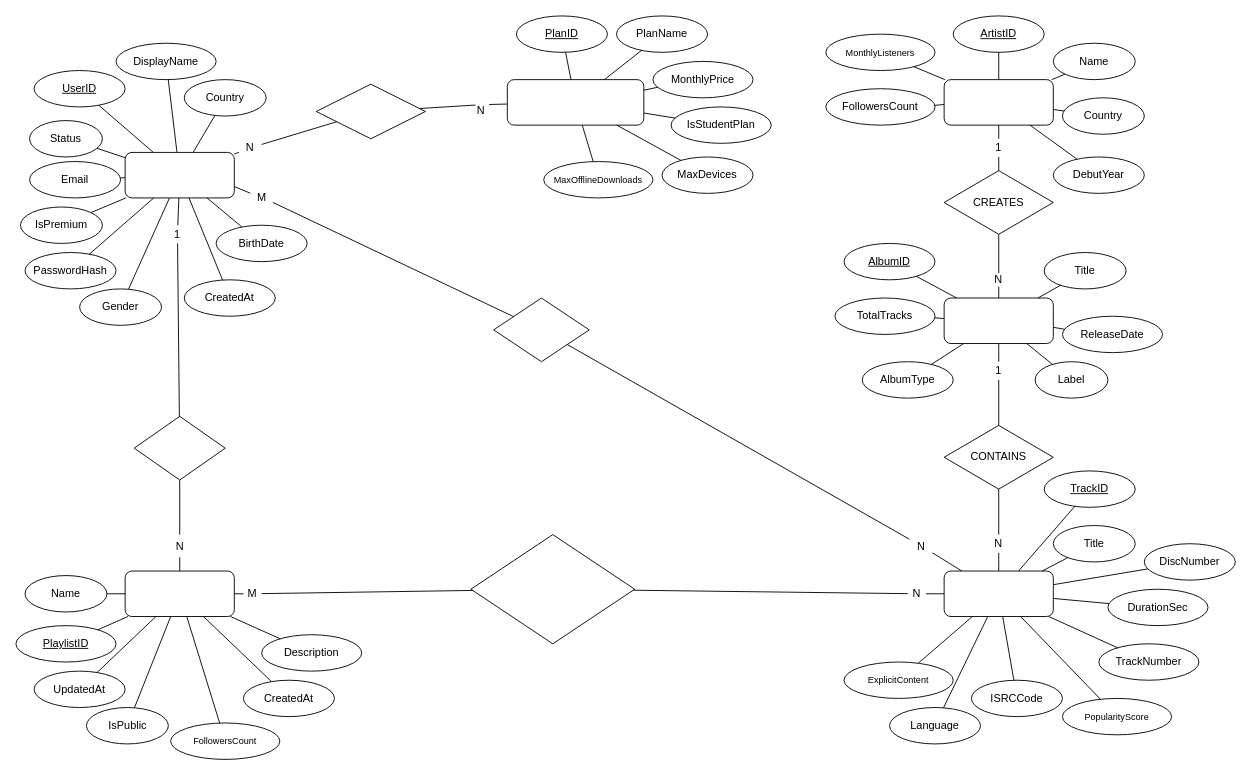
Image size: 1251x775. Some labels were removed from this diagram. The shapes that lost their labels are listed below. From the top down, each one's centre as x and y in pixels, then its label:
point (370, 111): SUBSCRIPTION
point (575, 102): SUBSCRIPTION_PLAN
point (998, 102): ARTIST
point (179, 175): USER
point (541, 329): LISTENS
point (998, 320): ALBUM
point (179, 447): OWNS
point (179, 593): PLAYLIST
point (552, 589): INCLUDES
point (998, 593): TRACK
